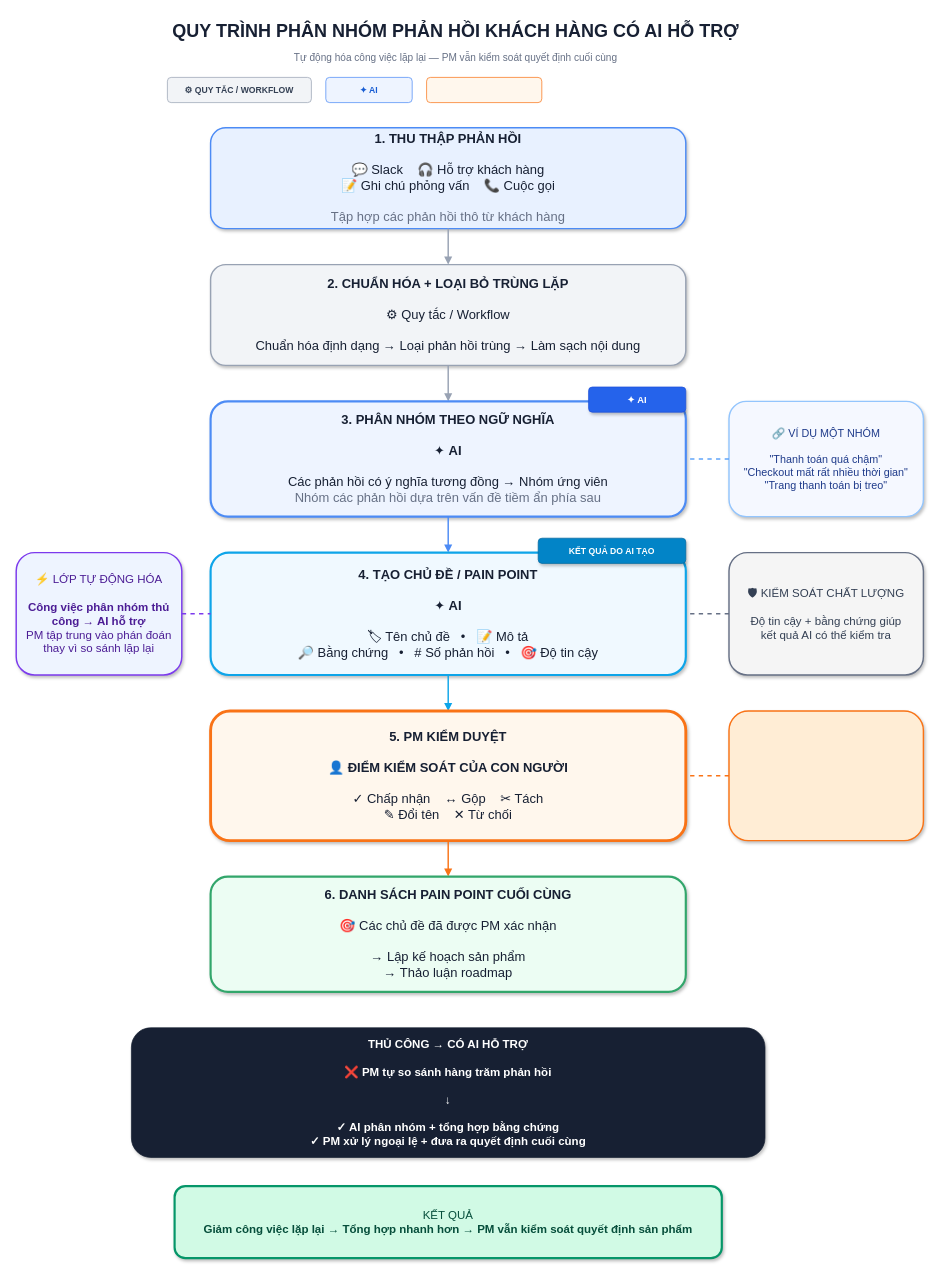
Some shapes in this 940 by 1277 pixel diagram are drawn without their labels. Each missing label, with the centre of its shape:
"👤 CON NGƯỜI" goes at [484,90].
"👤 ĐIỂM RA QUYẾT ĐỊNH AI đề xuất PM quyết định" goes at [826,776].
